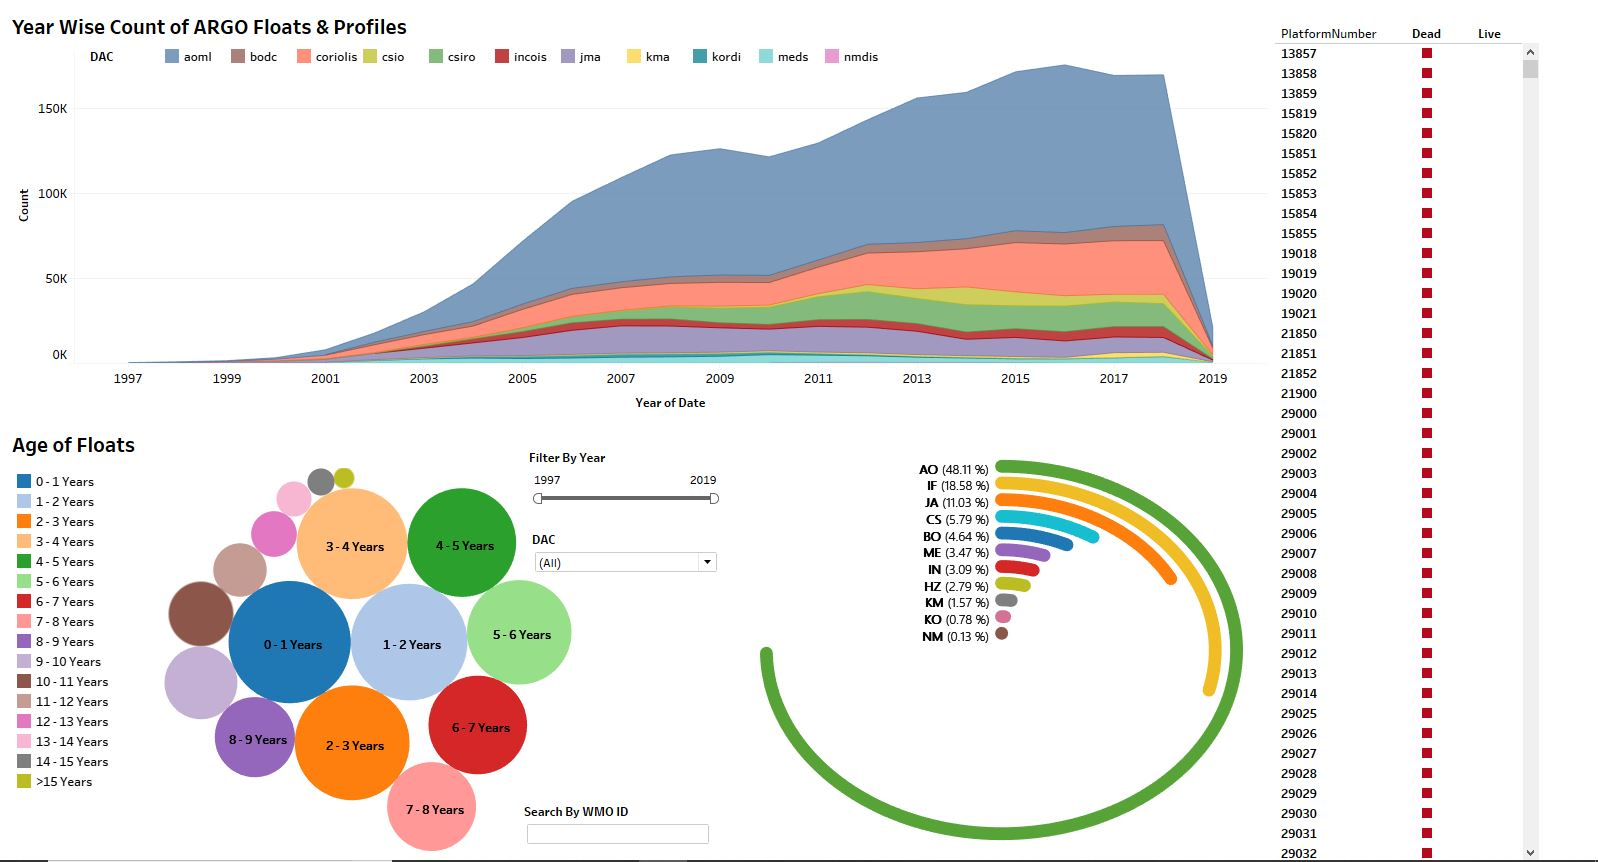

The page's visual inventory and layout, read from the dashboard file:
{"tool":"tableau","page":{"name":"Dashboard 2 (4)","canvas":[1000,1000],"units":"permille","ordinal":7},"visuals":[{"type":"filter","title":"Sheet 1 (8)","param":"[federated.056b33q0qvh23j18x2hsd0ejj9bh].[none:latitude:qk]","box":[309.6,4.1,115.2,76]},{"type":"filter","title":"Sheet 1 (8)","param":"[federated.056b33q0qvh23j18x2hsd0ejj9bh].[none:longitude:qk]","box":[435.6,4.1,115.2,74.6]},{"type":"parameter","param":"[Parameters].[Parameter 1]","box":[10.8,5.5,182.9,58]},{"type":"filter","title":"Sheet 1 (8)","param":"[federated.056b33q0qvh23j18x2hsd0ejj9bh].[none:ocean:nk]","box":[881.9,8.3,109.4,56.6]},{"type":"title","box":[5.8,11.1,988.5,60.8]},{"type":"filter","title":"Sheet 2 (4)","param":"[federated.056b33q0qvh23j18x2hsd0ejj9bh].[none:Calculation_1243837944441257984:n","box":[581,11.1,72,52.5]},{"type":"filter","title":"Sheet 1 (8)","param":"[federated.056b33q0qvh23j18x2hsd0ejj9bh].[none:date:qk]","box":[684,12.4,169.9,52.5]},{"type":"worksheet","title":"Sheet 1 (8)","mark":"Automatic","rows":["latitude"],"cols":["longitude"],"box":[5.8,71.8,988.5,376.1]},{"type":"legend","title":"Sheet 2 (4)","param":"[federated.056b33q0qvh23j18x2hsd0ejj9bh].[none:institution:nk]","box":[528.4,82.9,461.5,33.1]},{"type":"worksheet","title":"Sheet 2 (4)","mark":"Circle","box":[5.8,447.9,493.9,353.4]},{"type":"worksheet","title":"Sheet 7 (3)","mark":"Area","rows":["Calculation_1243837944444223489"],"cols":["date"],"box":[499.6,447.9,494.6,353.4]},{"type":"worksheet","title":"Sheet 6 (2)","mark":"Square","cols":["Calculation_1243837944446746626","institution"],"box":[5.8,801.4,988.5,187.6]}]}

Visuals, with their boxes on the dashboard's canvas, which has no fixed pixel size, in thousandths of its width and height (x1, y1, x2, y2). These are canvas units, not pixel positions in the 1598x862 screenshot, which may show the page scaled, cropped or inside an application window:
"Sheet 1 (8)" filter: crop(310, 4, 425, 80)
"Sheet 1 (8)" filter: crop(436, 4, 551, 79)
parameter: crop(11, 6, 194, 64)
"Sheet 1 (8)" filter: crop(882, 8, 991, 65)
title: crop(6, 11, 994, 72)
"Sheet 2 (4)" filter: crop(581, 11, 653, 64)
"Sheet 1 (8)" filter: crop(684, 12, 854, 65)
"Sheet 1 (8)" worksheet: crop(6, 72, 994, 448)
"Sheet 2 (4)" legend: crop(528, 83, 990, 116)
"Sheet 2 (4)" worksheet (Circle marks): crop(6, 448, 500, 801)
"Sheet 7 (3)" worksheet (Area marks): crop(500, 448, 994, 801)
"Sheet 6 (2)" worksheet (Square marks): crop(6, 801, 994, 989)
